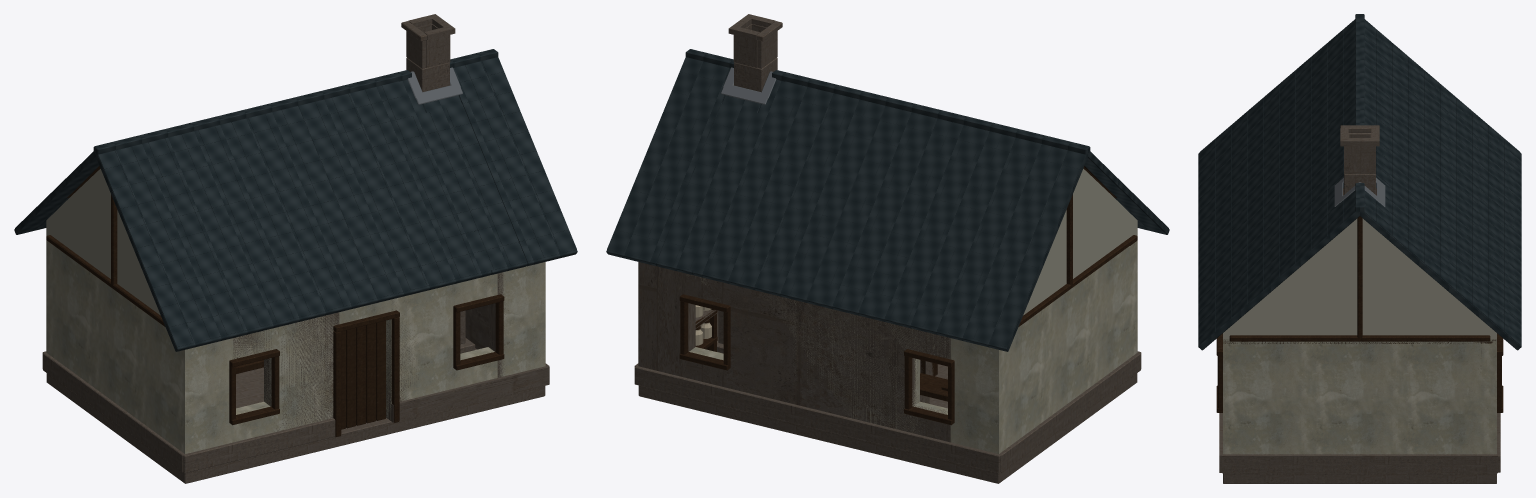
File: s_alchemist.glb
The picture shows the model from 3 angles, left to right: view 1: azimuth 30°, elevation 25°; view 2: azimuth 150°, elevation 25°; view 3: azimuth 270°, elevation 25°; orthographic projection.
Parts seen in each view (by area): view 1: roof, front, foundation, window jamb, front-colonly.003, front stone belt-colonly.001, Door plank.002, Door plank.001, Door plank.003, Door plank.004, side wall-colonly.001, chimney flashing (+3 smaller); view 2: roof, front, rear-colonly.003, foundation, window jamb, rear-colonly.006, shop counter, rear-colonly.005, rear-colonly.002, chimney flashing, rear-colonly.001, rear-colonly.004; view 3: roof, front, foundation, side stone belt-colonly.001, window jamb, chimney wall-colonly.001, chimney flashing, chimney rim-colonly.001.
Part boxes in pixels (<box>): roof: <box>14,49,577,351</box>; front: <box>46,84,545,453</box>; foundation: <box>42,14,549,483</box>; window jamb: <box>46,166,504,436</box>; front-colonly.003: <box>264,312,339,431</box>; front stone belt-colonly.001: <box>391,366,549,422</box>; Door plank.002: <box>356,325,365,425</box>; Door plank.001: <box>346,328,355,428</box>; Door plank.003: <box>366,323,375,423</box>; Door plank.004: <box>376,320,385,420</box>; side wall-colonly.001: <box>465,305,488,349</box>; chimney flashing: <box>407,67,462,104</box>; roof: <box>606,49,1169,351</box>; front: <box>686,84,1137,453</box>; rear-colonly.003: <box>726,283,917,432</box>; foundation: <box>634,14,1141,483</box>; window jamb: <box>679,166,1137,425</box>; rear-colonly.006: <box>638,262,695,377</box>; shop counter: <box>695,309,947,401</box>; rear-colonly.005: <box>686,273,726,304</box>; rear-colonly.002: <box>910,328,950,359</box>; chimney flashing: <box>721,67,776,104</box>; rear-colonly.001: <box>910,405,950,442</box>; rear-colonly.004: <box>686,360,726,387</box>; roof: <box>1198,14,1521,350</box>; front: <box>1223,218,1496,454</box>; foundation: <box>1220,125,1500,483</box>; side stone belt-colonly.001: <box>1222,454,1497,473</box>; window jamb: <box>1216,188,1503,412</box>; chimney wall-colonly.001: <box>1344,146,1375,173</box>; chimney flashing: <box>1334,177,1385,206</box>; chimney rim-colonly.001: <box>1340,138,1379,146</box>.
Size of what is drawn, in the model's own units: 10 by 7.92 by 7.08.
Materials: 6 (4 with a texture image).
